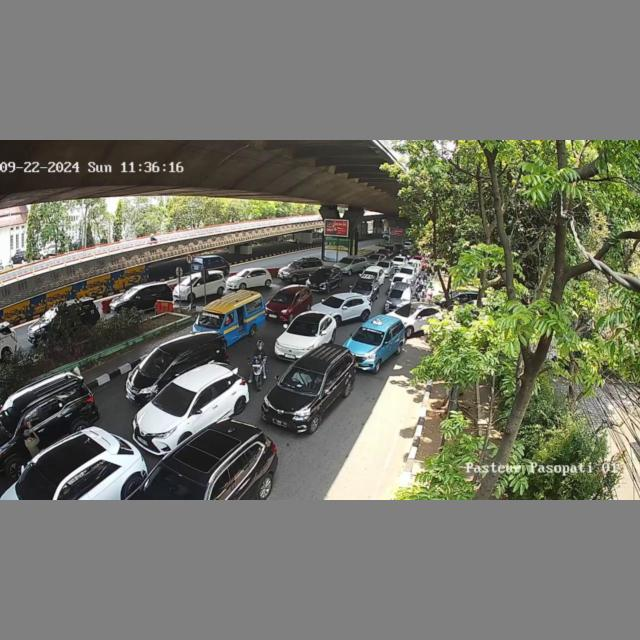windshield: (141, 467, 209, 500), (279, 364, 325, 394), (152, 382, 198, 411), (141, 348, 174, 376), (286, 319, 320, 337), (351, 326, 385, 344), (194, 310, 226, 329), (271, 292, 295, 304), (390, 289, 411, 300), (323, 296, 343, 307), (353, 281, 373, 291), (397, 306, 415, 317), (312, 270, 332, 279), (340, 258, 353, 265)
